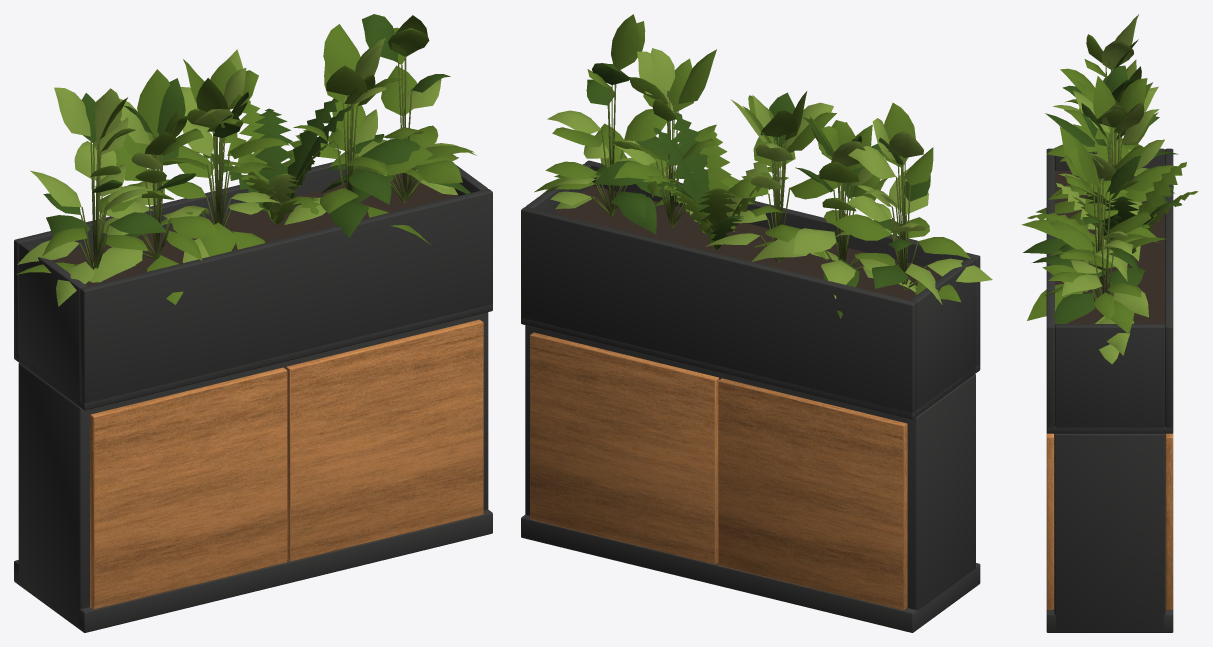
The model's file is greenery.planter-divider.glb.
The picture shows the model from 3 angles, left to right: view 1: azimuth 30°, elevation 25°; view 2: azimuth 150°, elevation 25°; view 3: azimuth 270°, elevation 25°; orthographic projection. The views are drawn at different scales.
Parts seen in each view (by area): view 1: greenery.planter-divider.001; view 2: greenery.planter-divider.001; view 3: greenery.planter-divider.001.
Part boxes in pixels (box(x1,y1,x2,y2)): greenery.planter-divider.001: box(14, 14, 492, 632); greenery.planter-divider.001: box(521, 14, 992, 632); greenery.planter-divider.001: box(1021, 14, 1198, 632).
Size of the model in its own units: 1.12 by 1.22 by 0.42.
7 materials, 1 textured.
